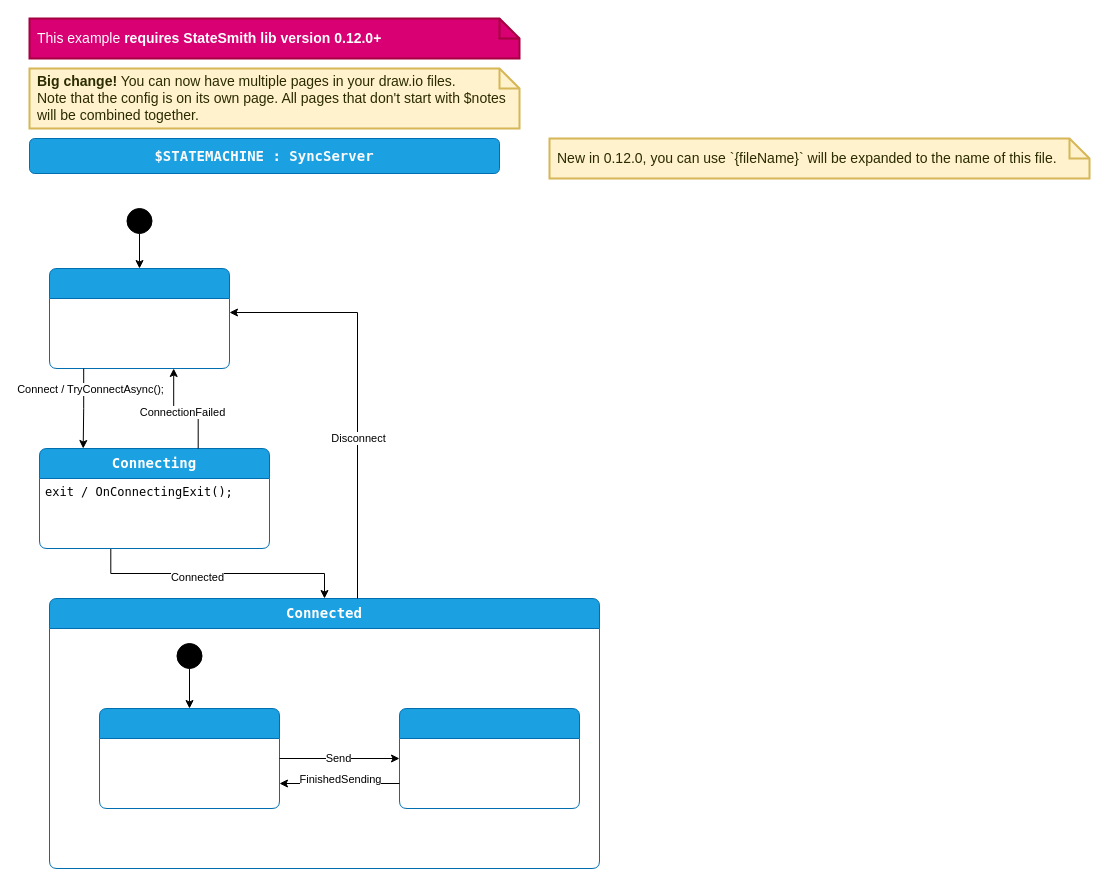
The diagram is 1108 pixels wide and 886 high, and some of its shapes have lost their labels. Each missing label, with the centre of its shape:
"ConnectedIdle" belongs at (189,758).
"Disconnected" belongs at (139,318).
"Sending" belongs at (489,758).
